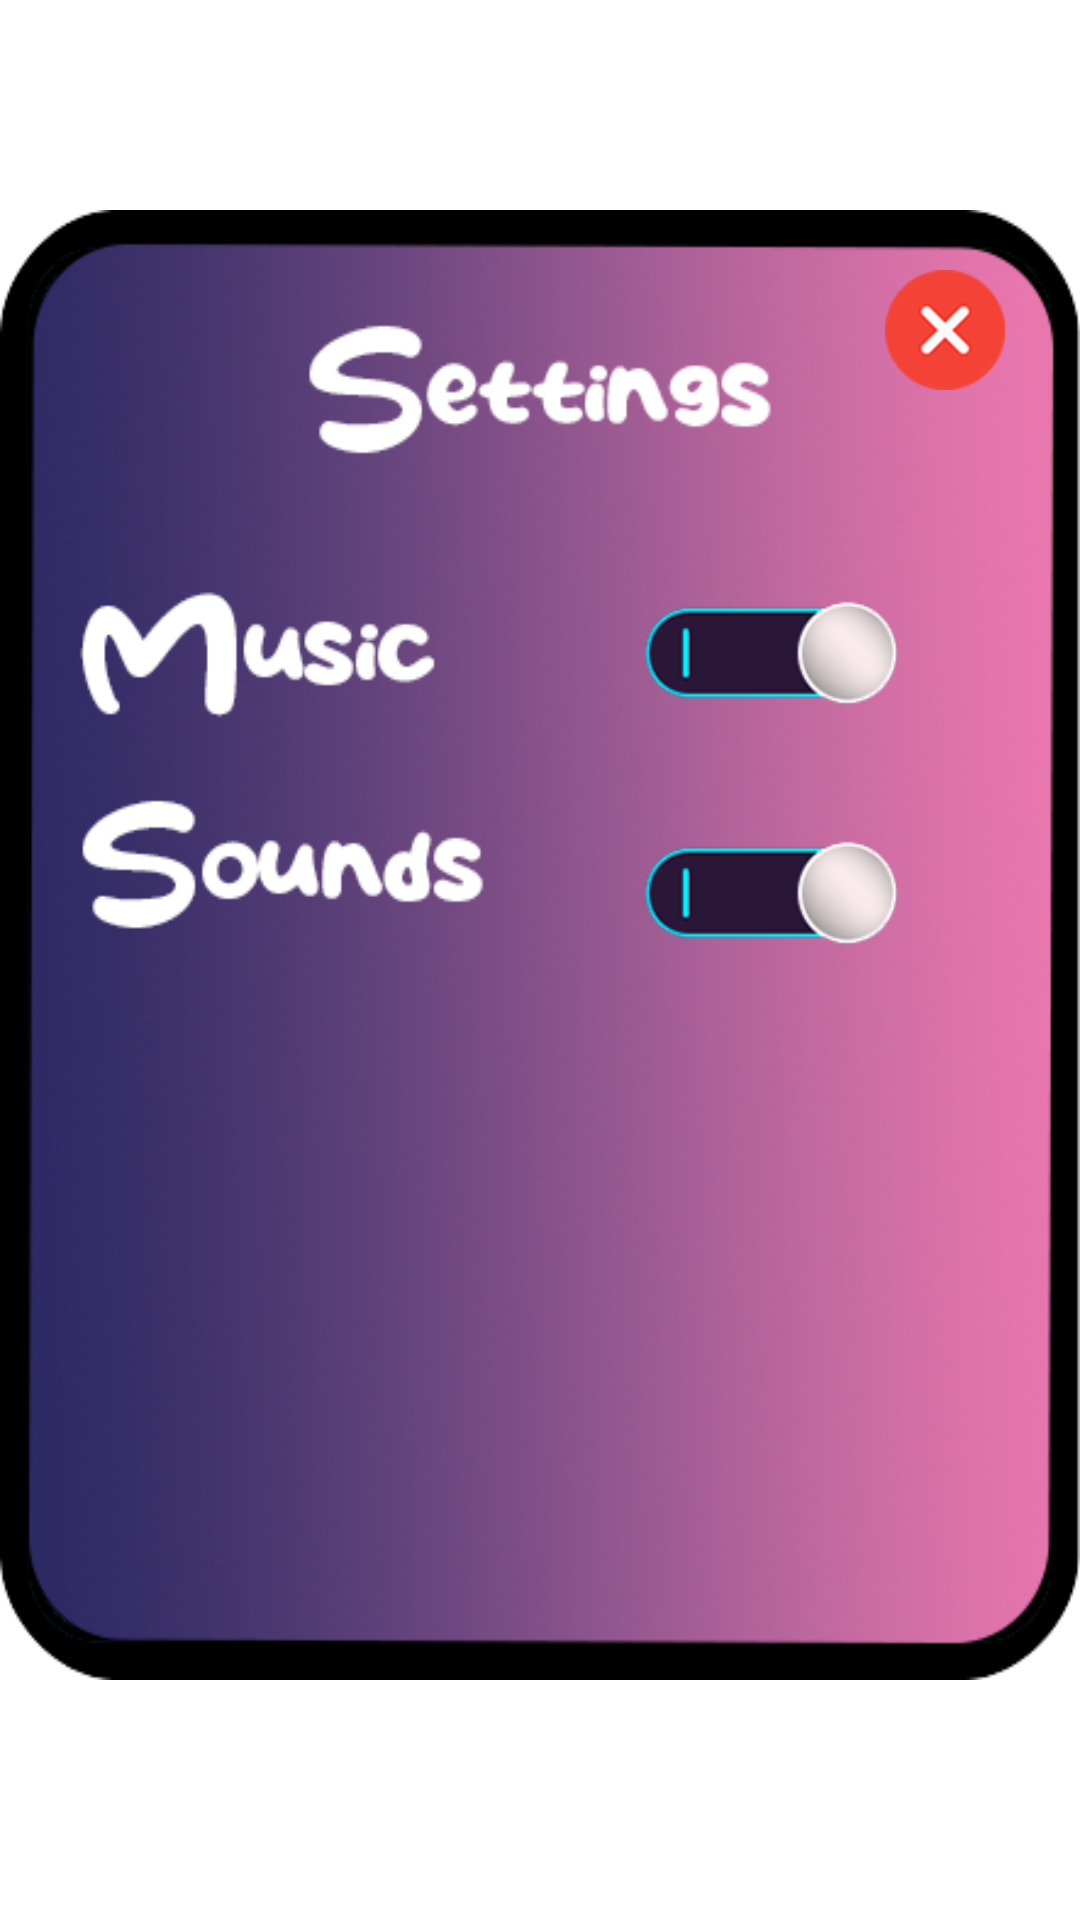

Where to tap for icons on this 1080w x 1920h app screen, as point (x, y):
close: point (945, 330)
music on: point (772, 652)
sounds on: point (772, 892)
